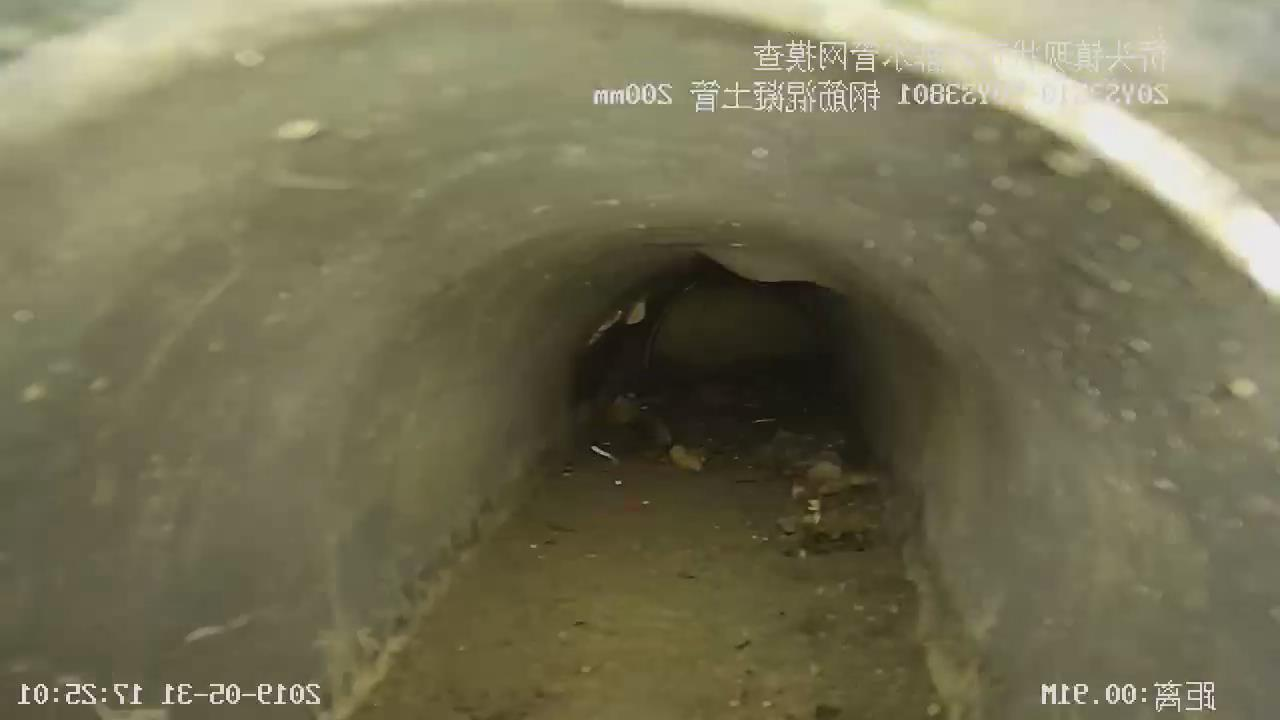BX: (681, 232, 843, 297)
CJ: (357, 386, 941, 719)
